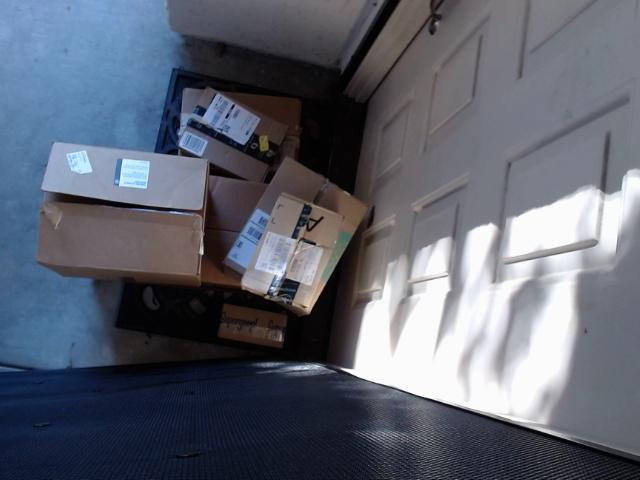box: (24, 128, 223, 300), (164, 73, 330, 209), (237, 158, 360, 311), (204, 289, 307, 359)
